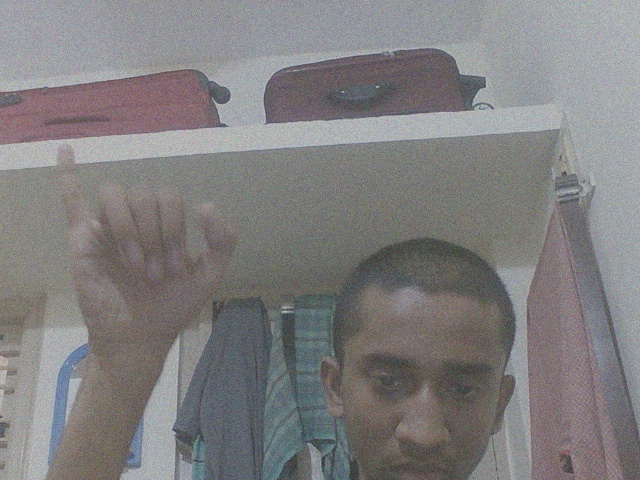hand: (52, 138, 241, 374)
